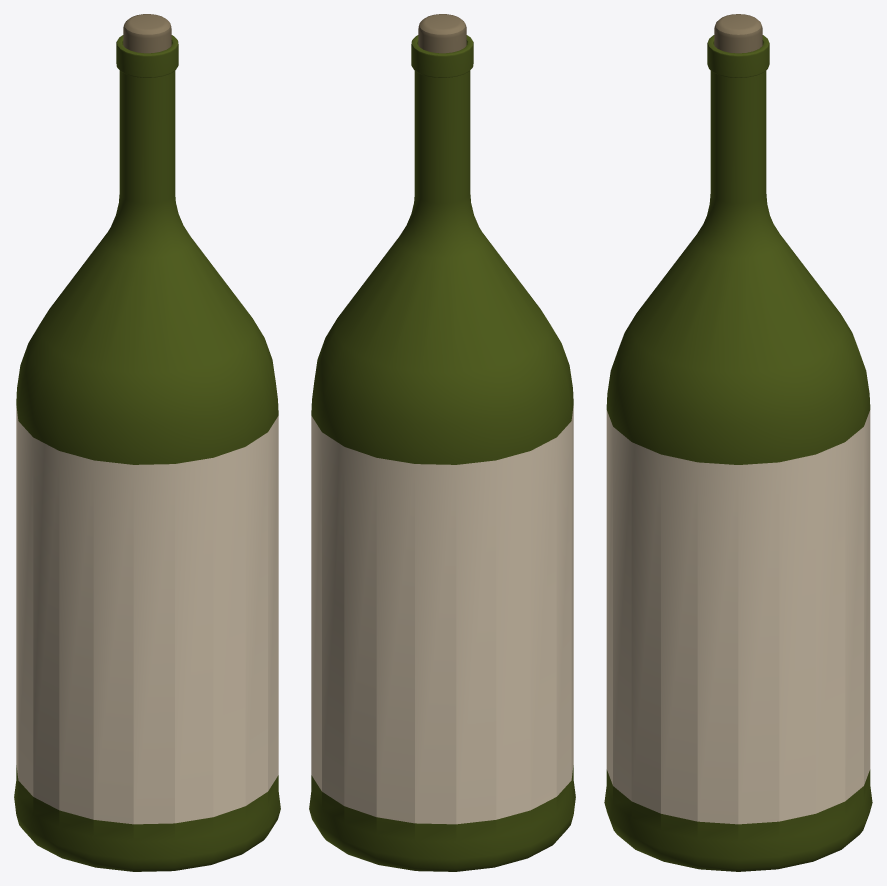
File: green_glass_bottle.fbx
3 views of the same model, side by side, from view 1: azimuth 30°, elevation 25°; view 2: azimuth 150°, elevation 25°; view 3: azimuth 270°, elevation 25° (orthographic).
Visible parts, largest first — view 1: bottle; view 2: bottle; view 3: bottle.
Boxes of the visible parts, x1,y1,x2,y2 form: bottle: [14, 14, 280, 871]; bottle: [309, 14, 575, 871]; bottle: [604, 14, 872, 871].
Bounding box in the file's own units: 2.03 × 6.69 × 2.03.
